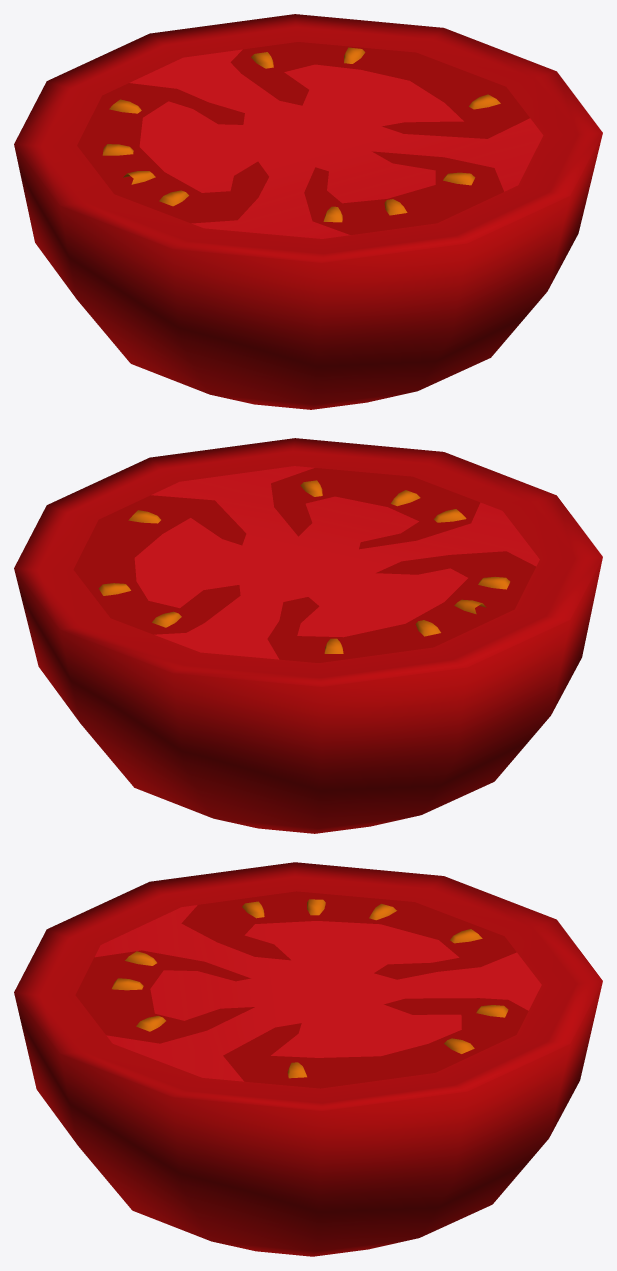
File: Tomato_half_02.fbx
3 renders of one model, top to bottom at view 1: azimuth 30°, elevation 25°; view 2: azimuth 150°, elevation 25°; view 3: azimuth 270°, elevation 25°, orthographic.
Parts seen in each view (by area): view 1: Tomato_half_02; view 2: Tomato_half_02; view 3: Tomato_half_02.
Boxes of the visible parts, <box> form: Tomato_half_02: <box>14,14,602,409</box>; Tomato_half_02: <box>14,438,602,833</box>; Tomato_half_02: <box>14,862,602,1256</box>.
Bounding box in the file's own units: 84.23 × 84.23 × 37.78.
